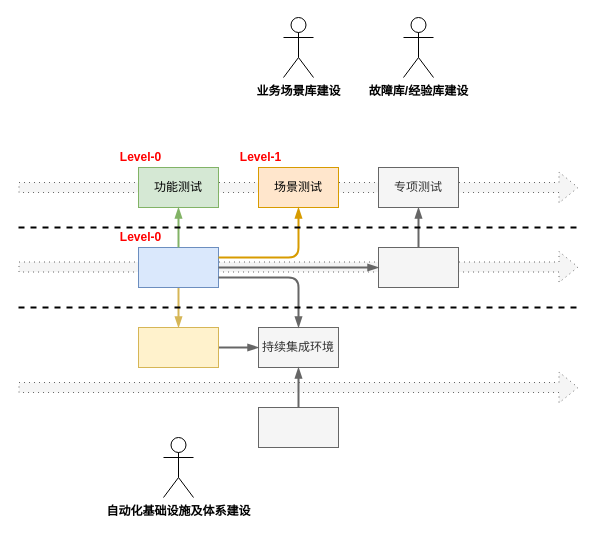
Some shapes in this 597 by 536 pixel diagram are drawn without their labels. The centre of each missing label's shape, as x and y in pixels:
"CICD设施" belongs at point 298,427.
"专项测试环境" belongs at point 418,267.
"研发测试云" belongs at point 178,267.
"自动化测试" belongs at point 178,347.
